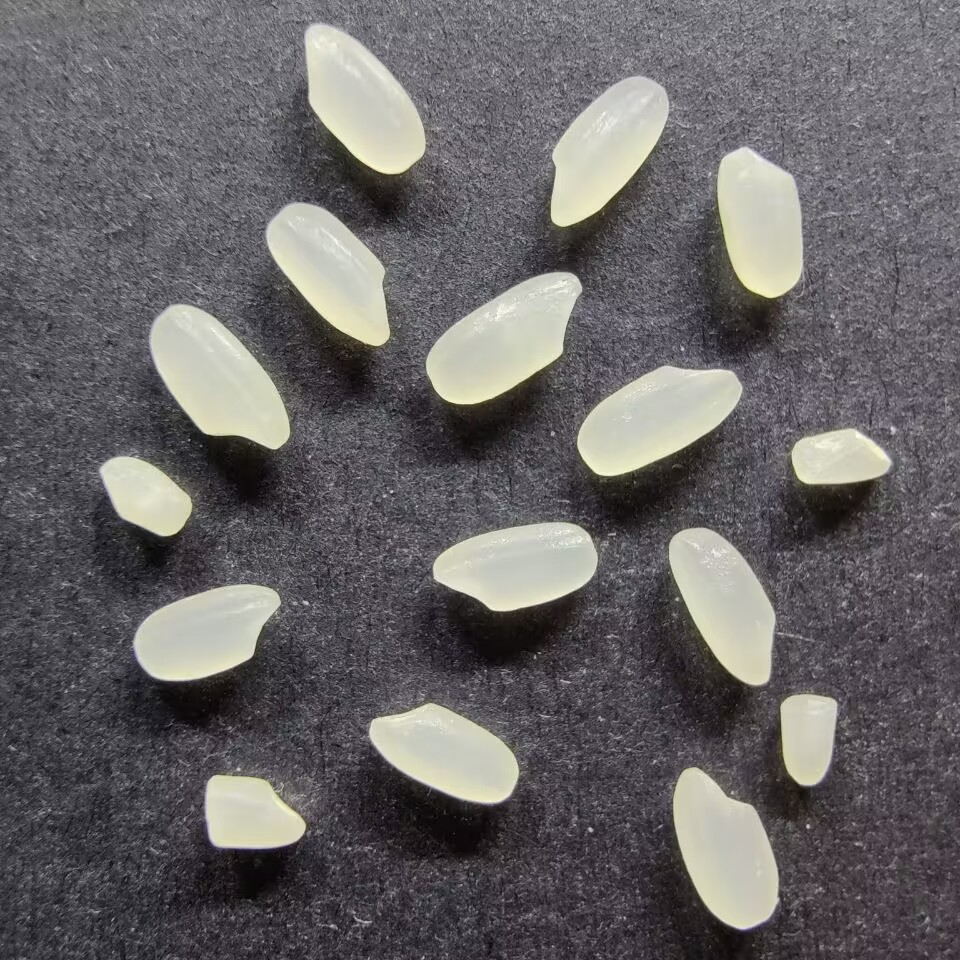broken: (96, 452, 195, 539), (202, 773, 307, 848), (788, 428, 893, 486), (780, 690, 839, 790)
rice: (426, 269, 586, 405), (148, 302, 292, 450), (547, 75, 675, 230), (573, 363, 744, 479), (299, 22, 427, 175), (265, 199, 392, 347), (665, 526, 779, 689), (673, 764, 782, 931), (367, 702, 519, 805), (131, 582, 282, 683), (432, 522, 599, 612), (717, 144, 806, 299)
